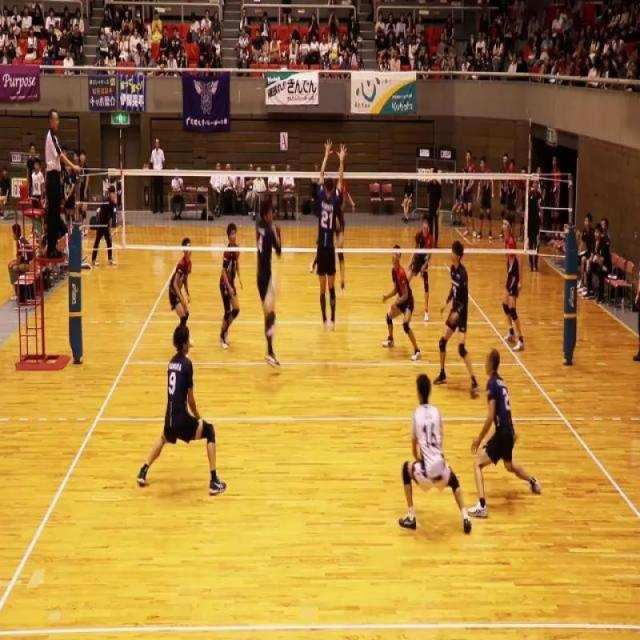volleyball: (264, 272, 279, 312)
